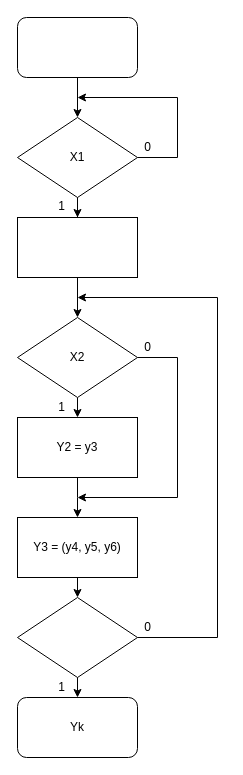
Image size: 243x775. Some labels were removed from this diagram. The shapes that lost their labels are listed below. From the top down, each one's box as (x1, y1, x2, y2) in pixels, then its label:
(16, 16, 138, 78): Y0
(16, 216, 138, 278): Y1 = (y1, y2)
(16, 596, 138, 678): X3
